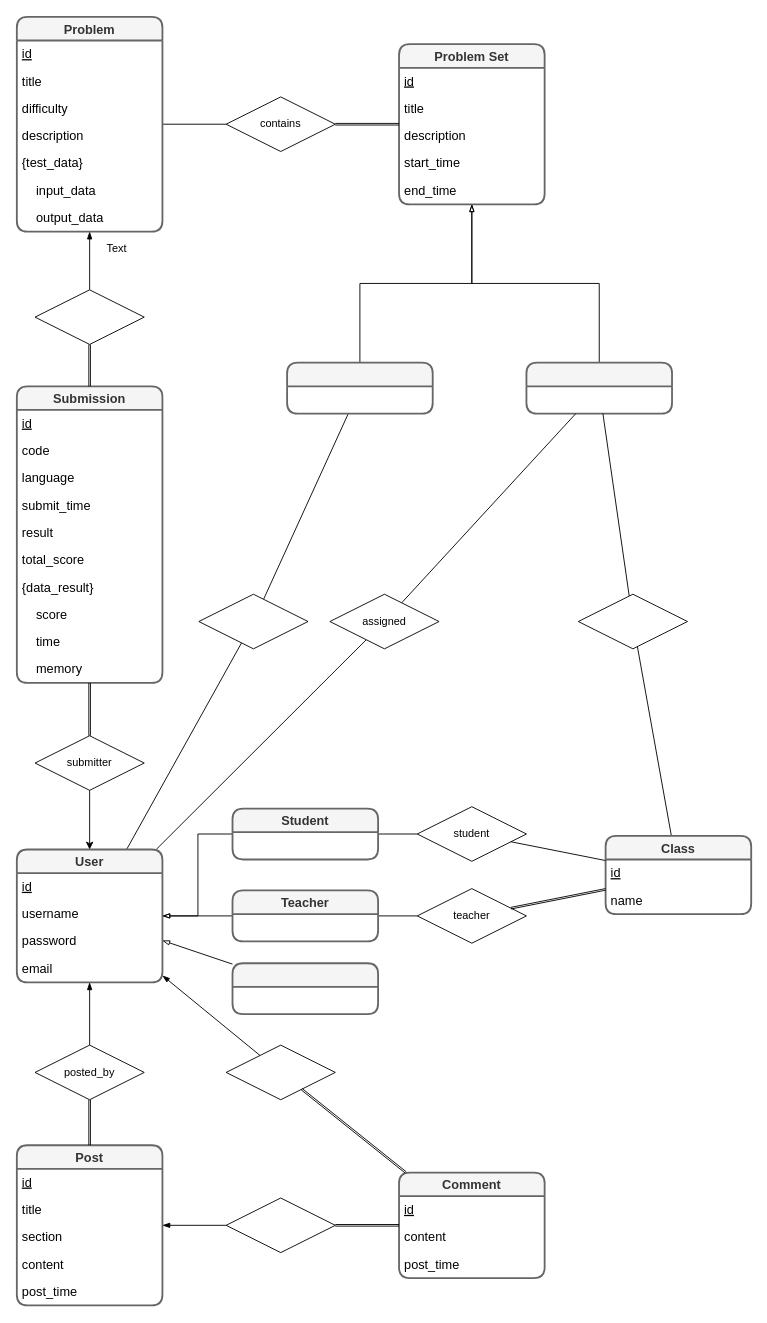
Some shapes in this 767 by 1323 pixel diagram are drawn without their labels. Here are the shapes that lost their labels. From the top down, the centre of each, then its label:
At (x=89, y=316): "submits_to".
At (x=359, y=387): "Competition".
At (x=598, y=387): "Homework".
At (x=253, y=621): "participate_in".
At (x=632, y=621): "includes".
At (x=305, y=988): "Administrator".
At (x=280, y=1072): "posts_comment".
At (x=280, y=1225): "comment_to".
